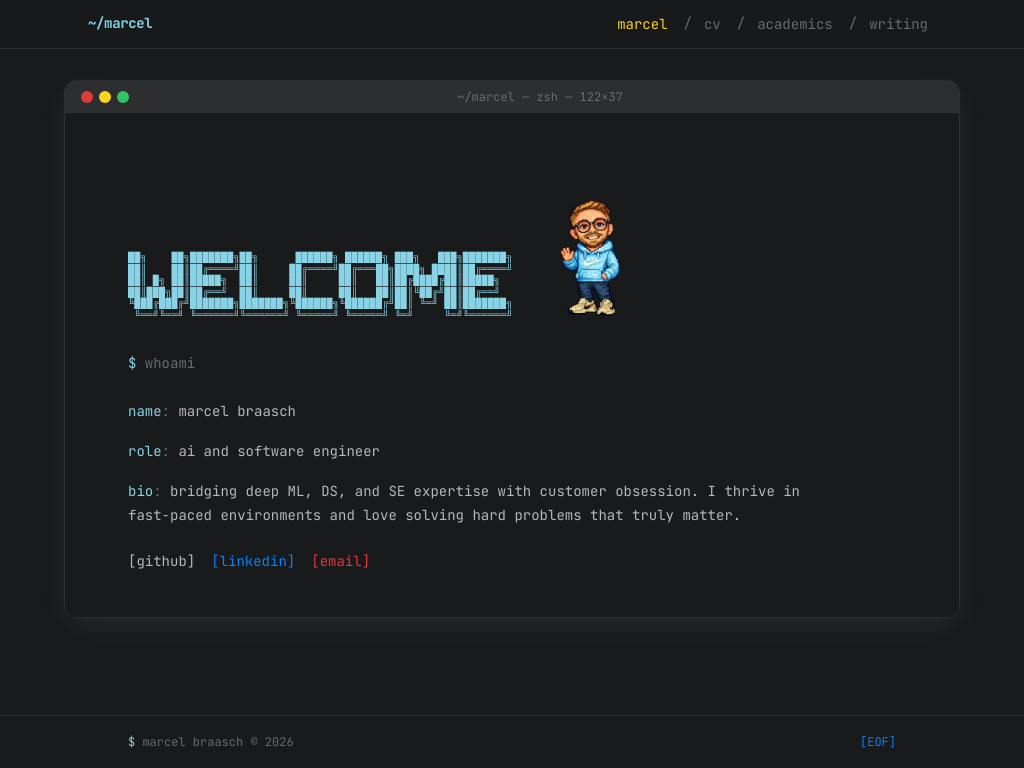
it: the page the terminal sits on › expanded, hands the whole list back rather than the fitted one
The image size is (1024, 768).
Click the button "writing".
click(899, 24)  # box [861,10,936,38]
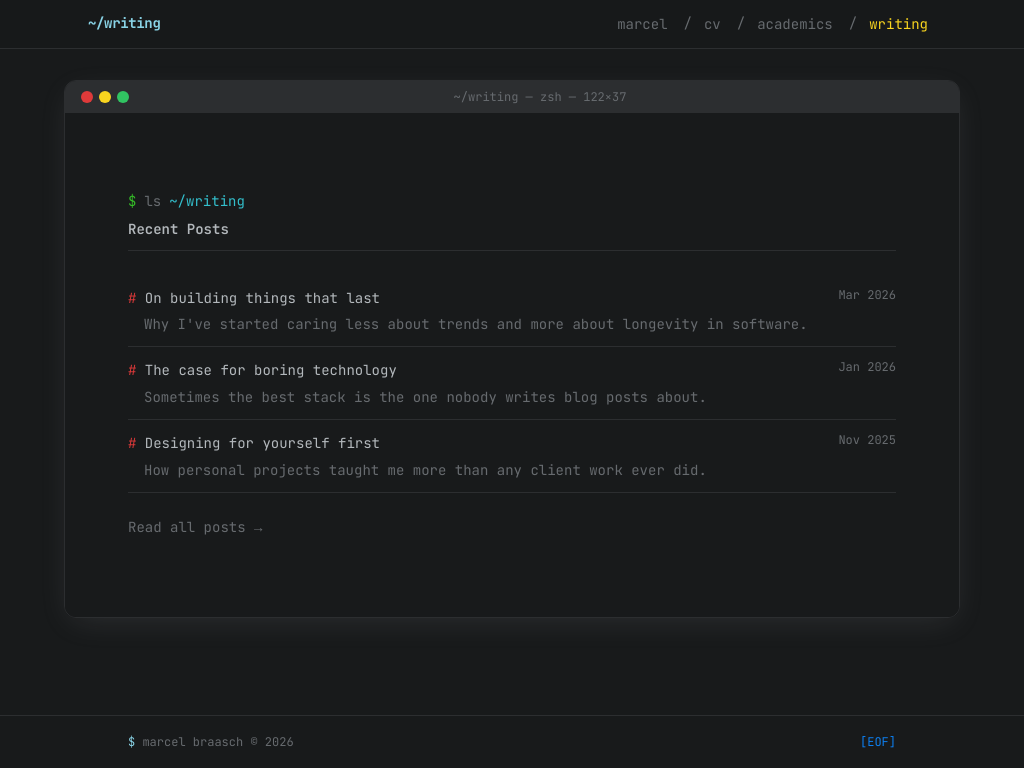
Click the button "Read all posts →".
click(195, 527)  # box [128,517,262,537]
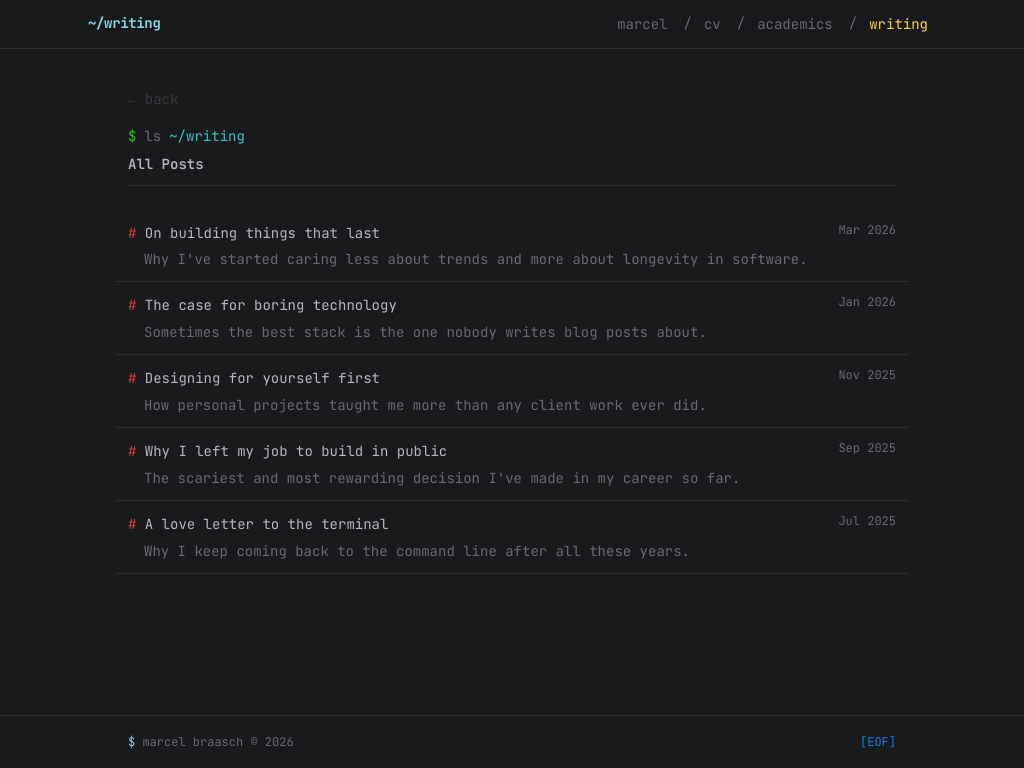
Expected: the button "Read all posts →" is gone
